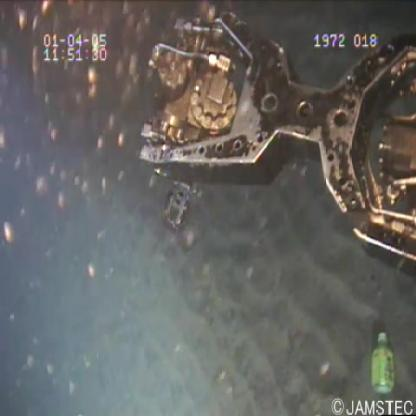Rov: (133, 7, 416, 298)
Rác: (366, 328, 398, 398)
